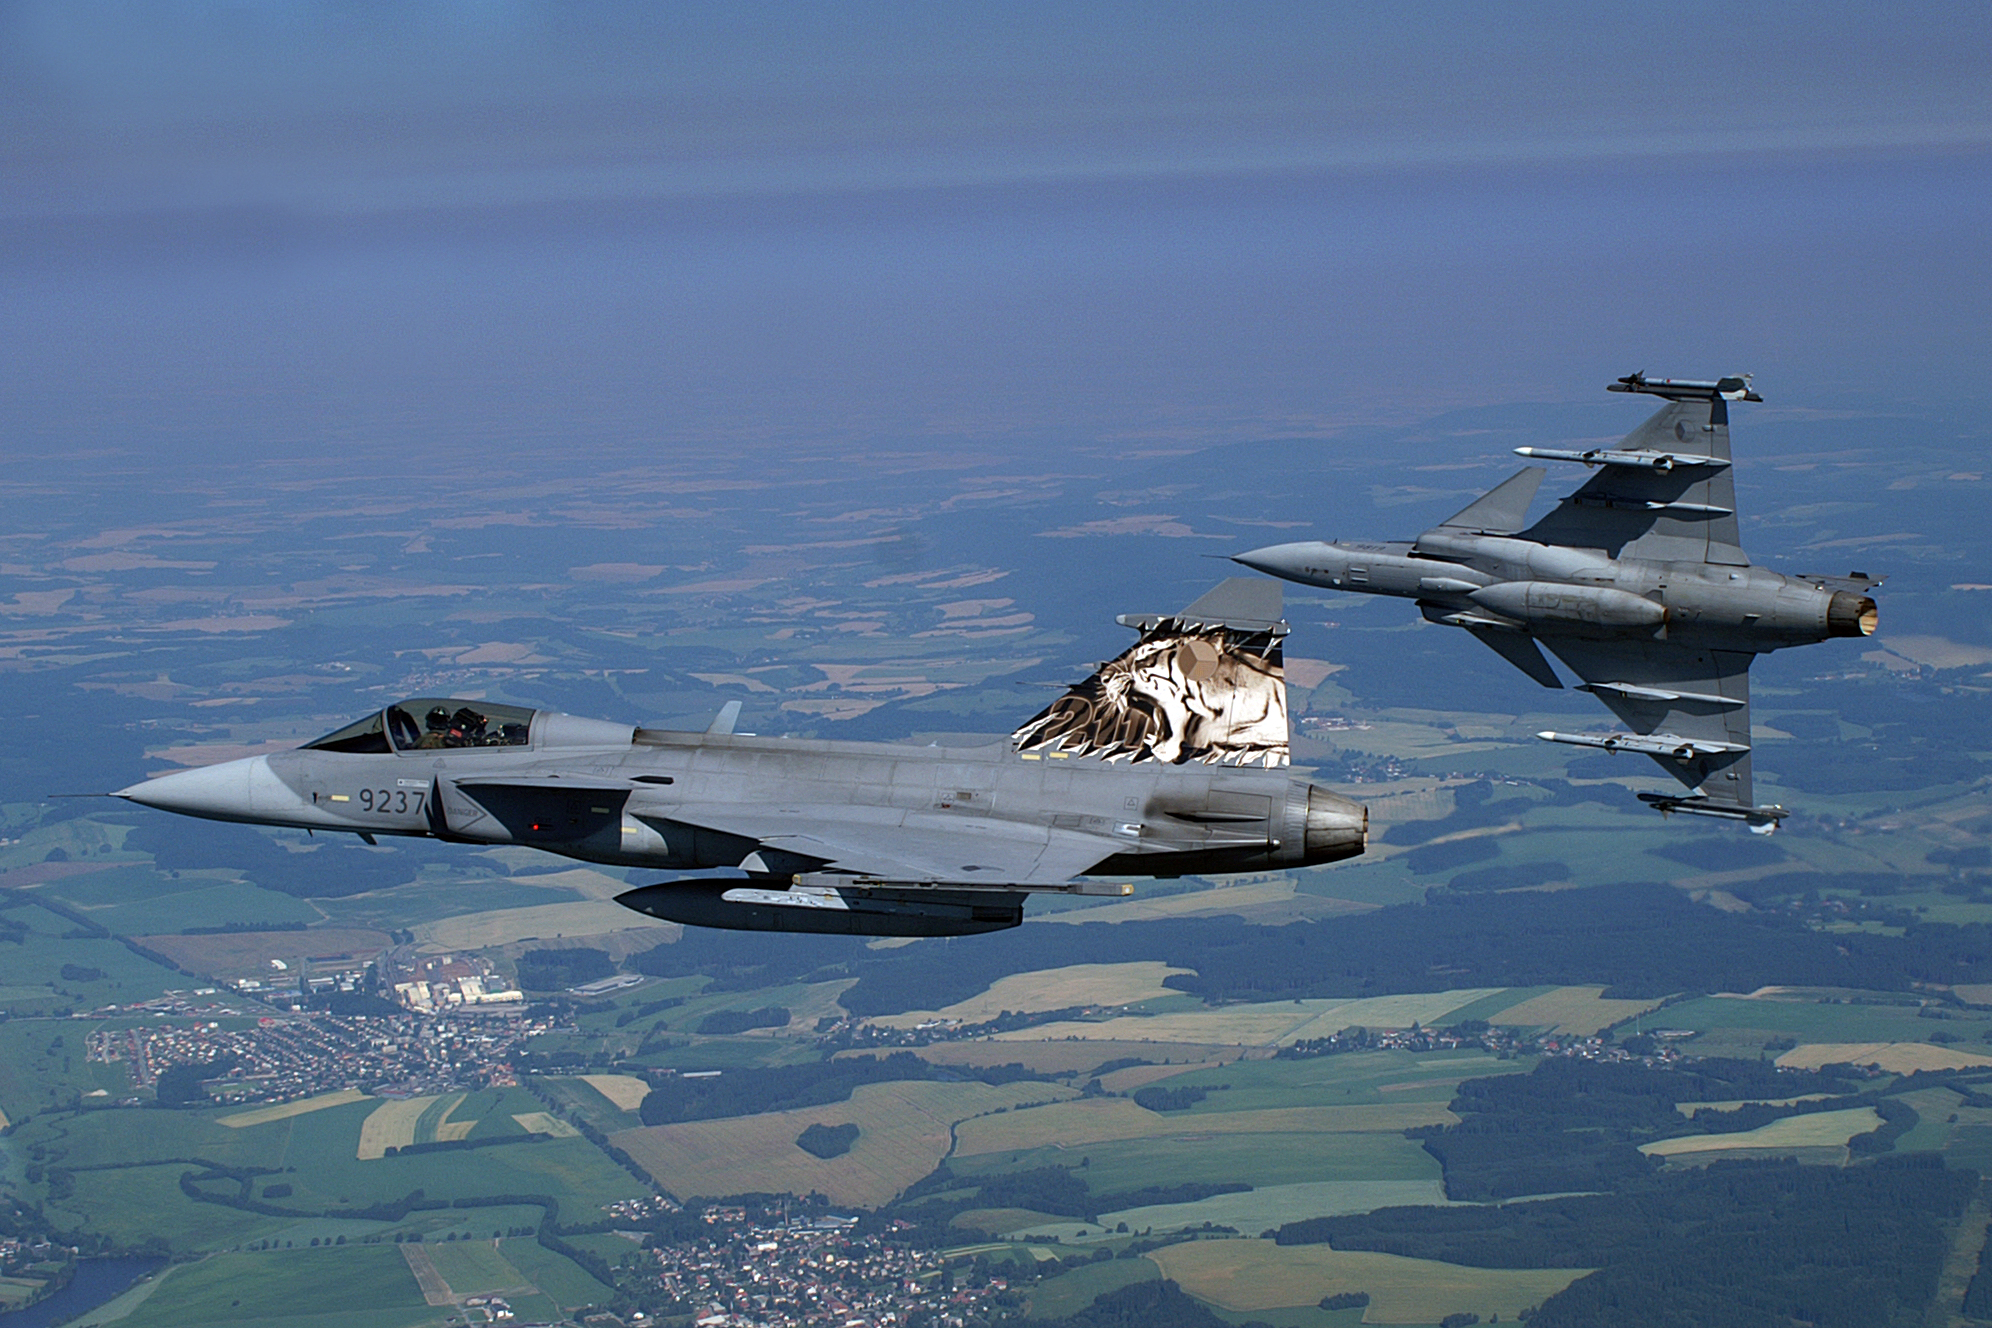JAS39: (44, 577, 1369, 938), (1198, 369, 1890, 834)
